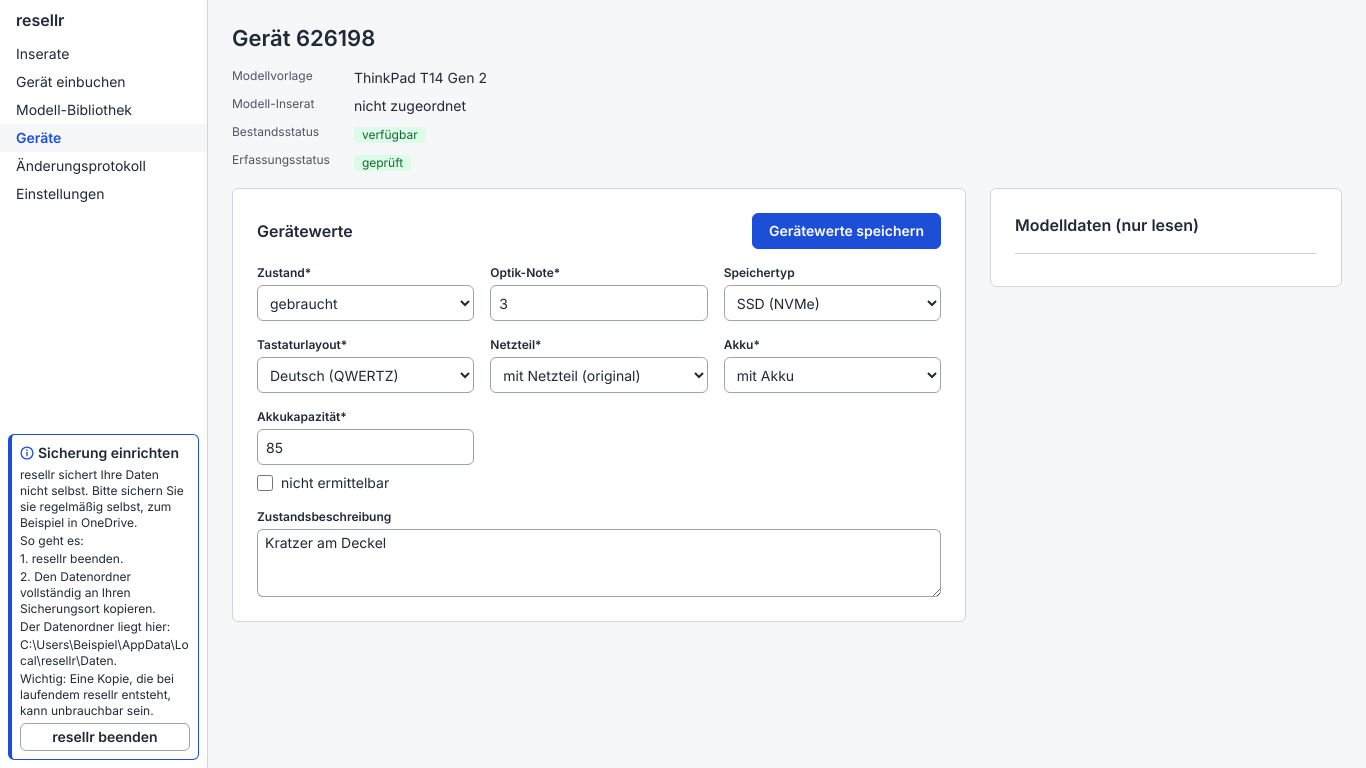
Scenario: UI-010 Gerätewerte (CU-137, Story #56) › UI-010.conflict DER-56-07 (a) shows P-05 with "Neu laden" on 409 version_conflict and keeps the inputs
The width and height of the screenshot is (1366, 768).
Expected: the form named "Gerätewerte" is shown, [257,265,941,597]
Replace the text in the field labelled "Optik-Note*" with "4". click: (599, 303)
box: [490,285,708,321]
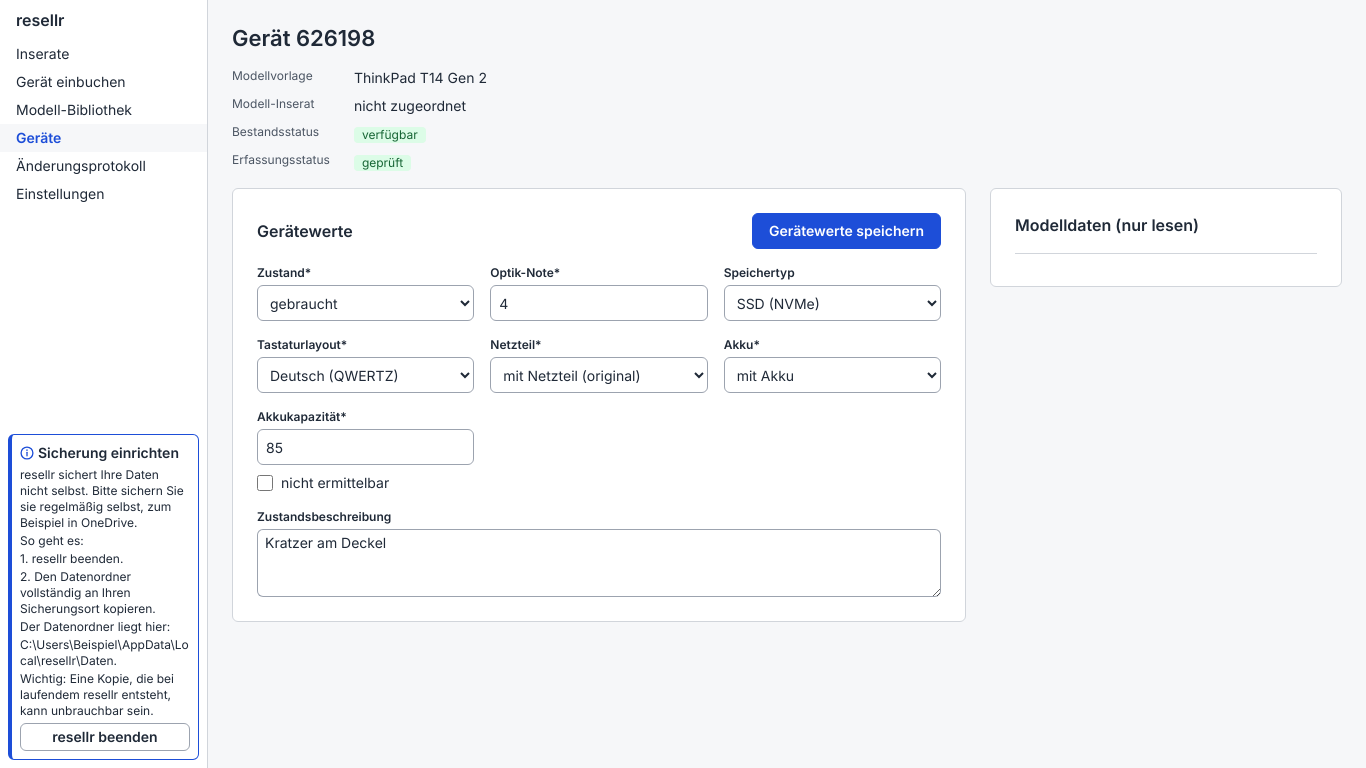
Click the button "Gerätewerte speichern". click: (846, 231)
box: [752,213,941,249]
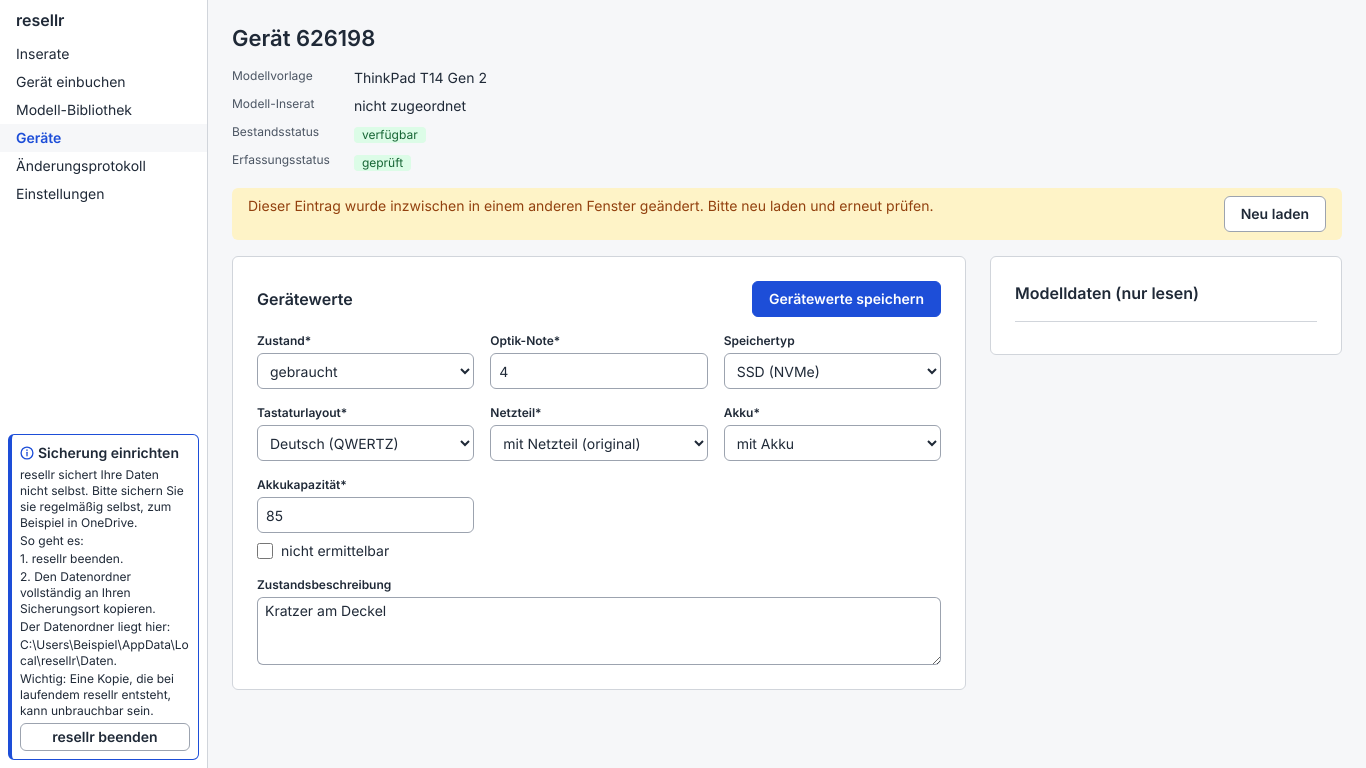
Expected: the button "Neu laden" is shown, [1224,196,1326,232]
